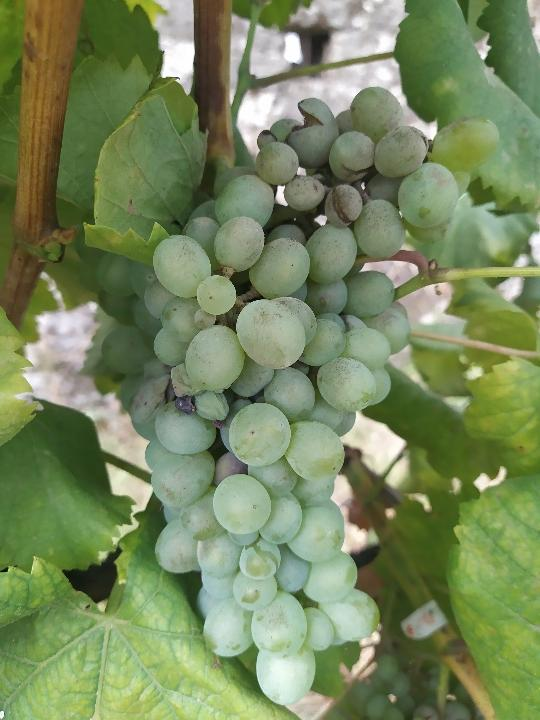grape: (98, 84, 503, 709)
